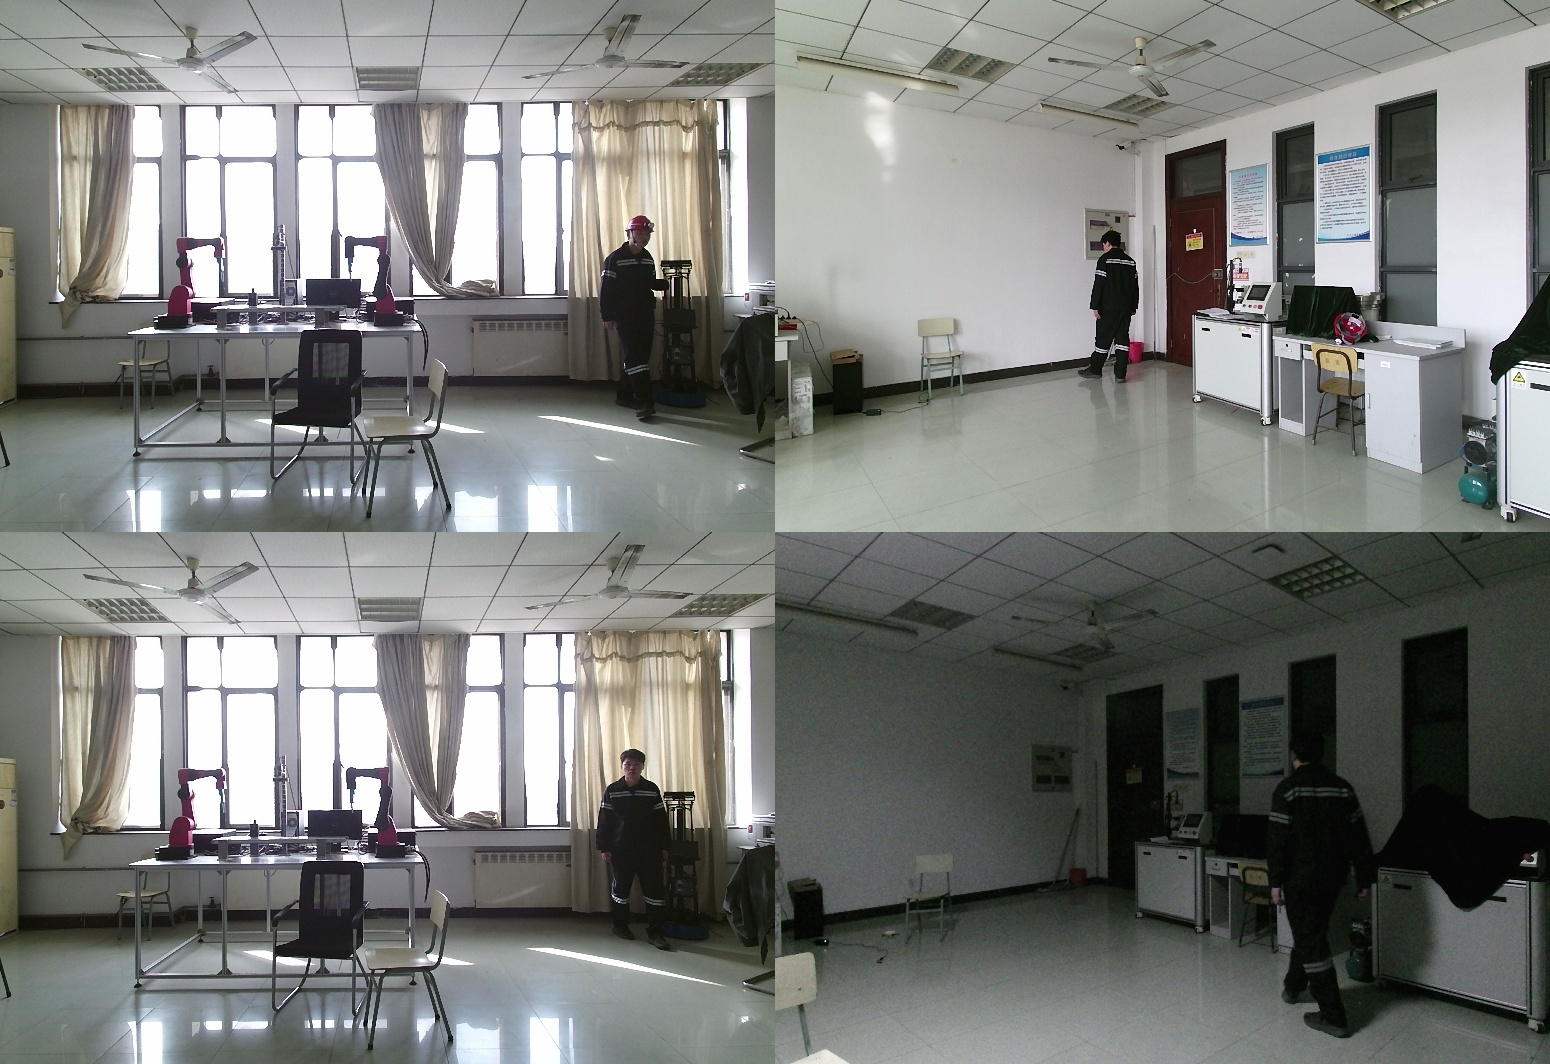person: (1270, 729, 1396, 1037), (596, 750, 683, 946), (599, 215, 672, 422), (1082, 231, 1141, 384)
